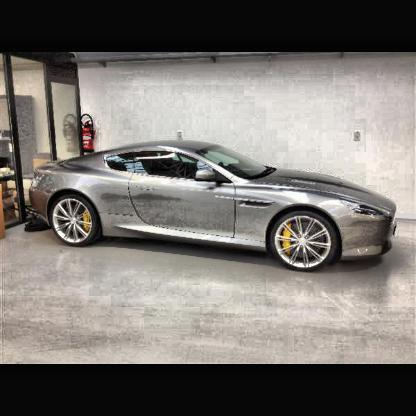Aston Martin Virage Coupe 2012: (28, 139, 401, 274)
